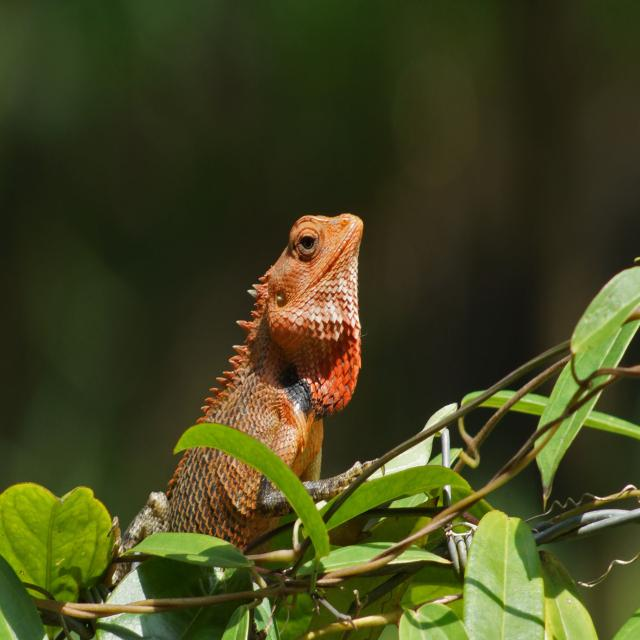Lizard: (160, 205, 370, 569)
